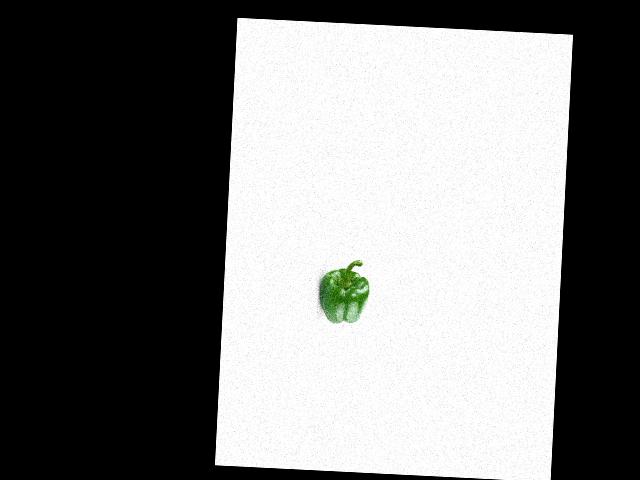bell_pepper: (319, 256, 371, 326)
